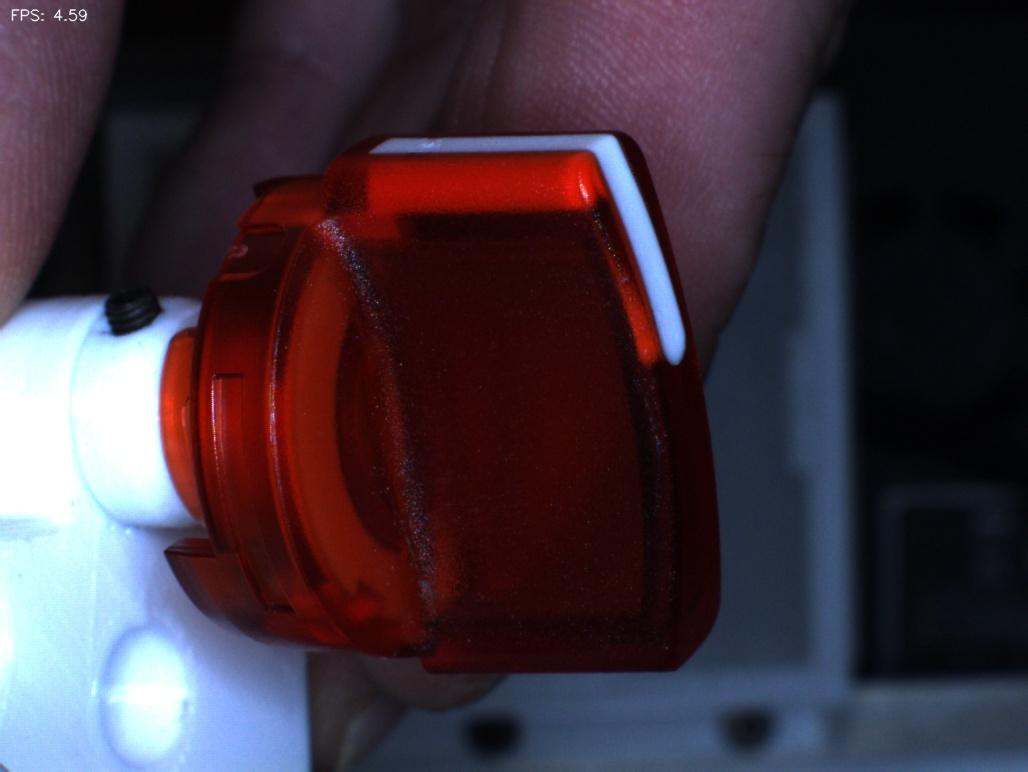Givrage: (607, 366, 686, 503)
